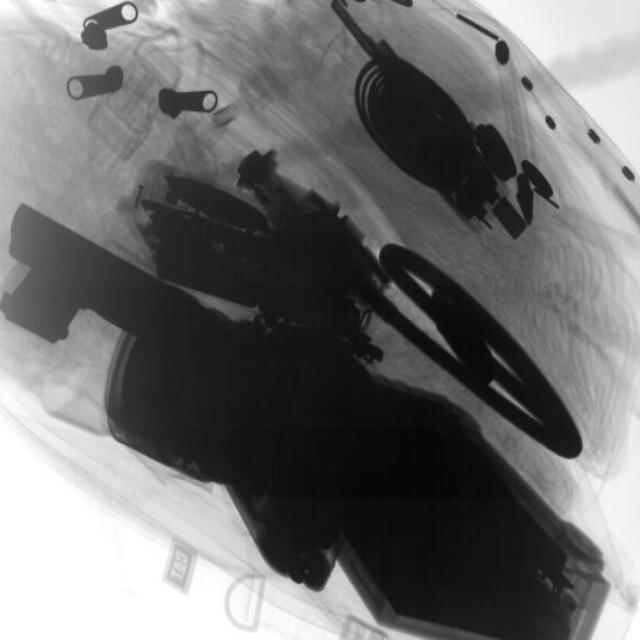GUN: (5, 208, 225, 353)
